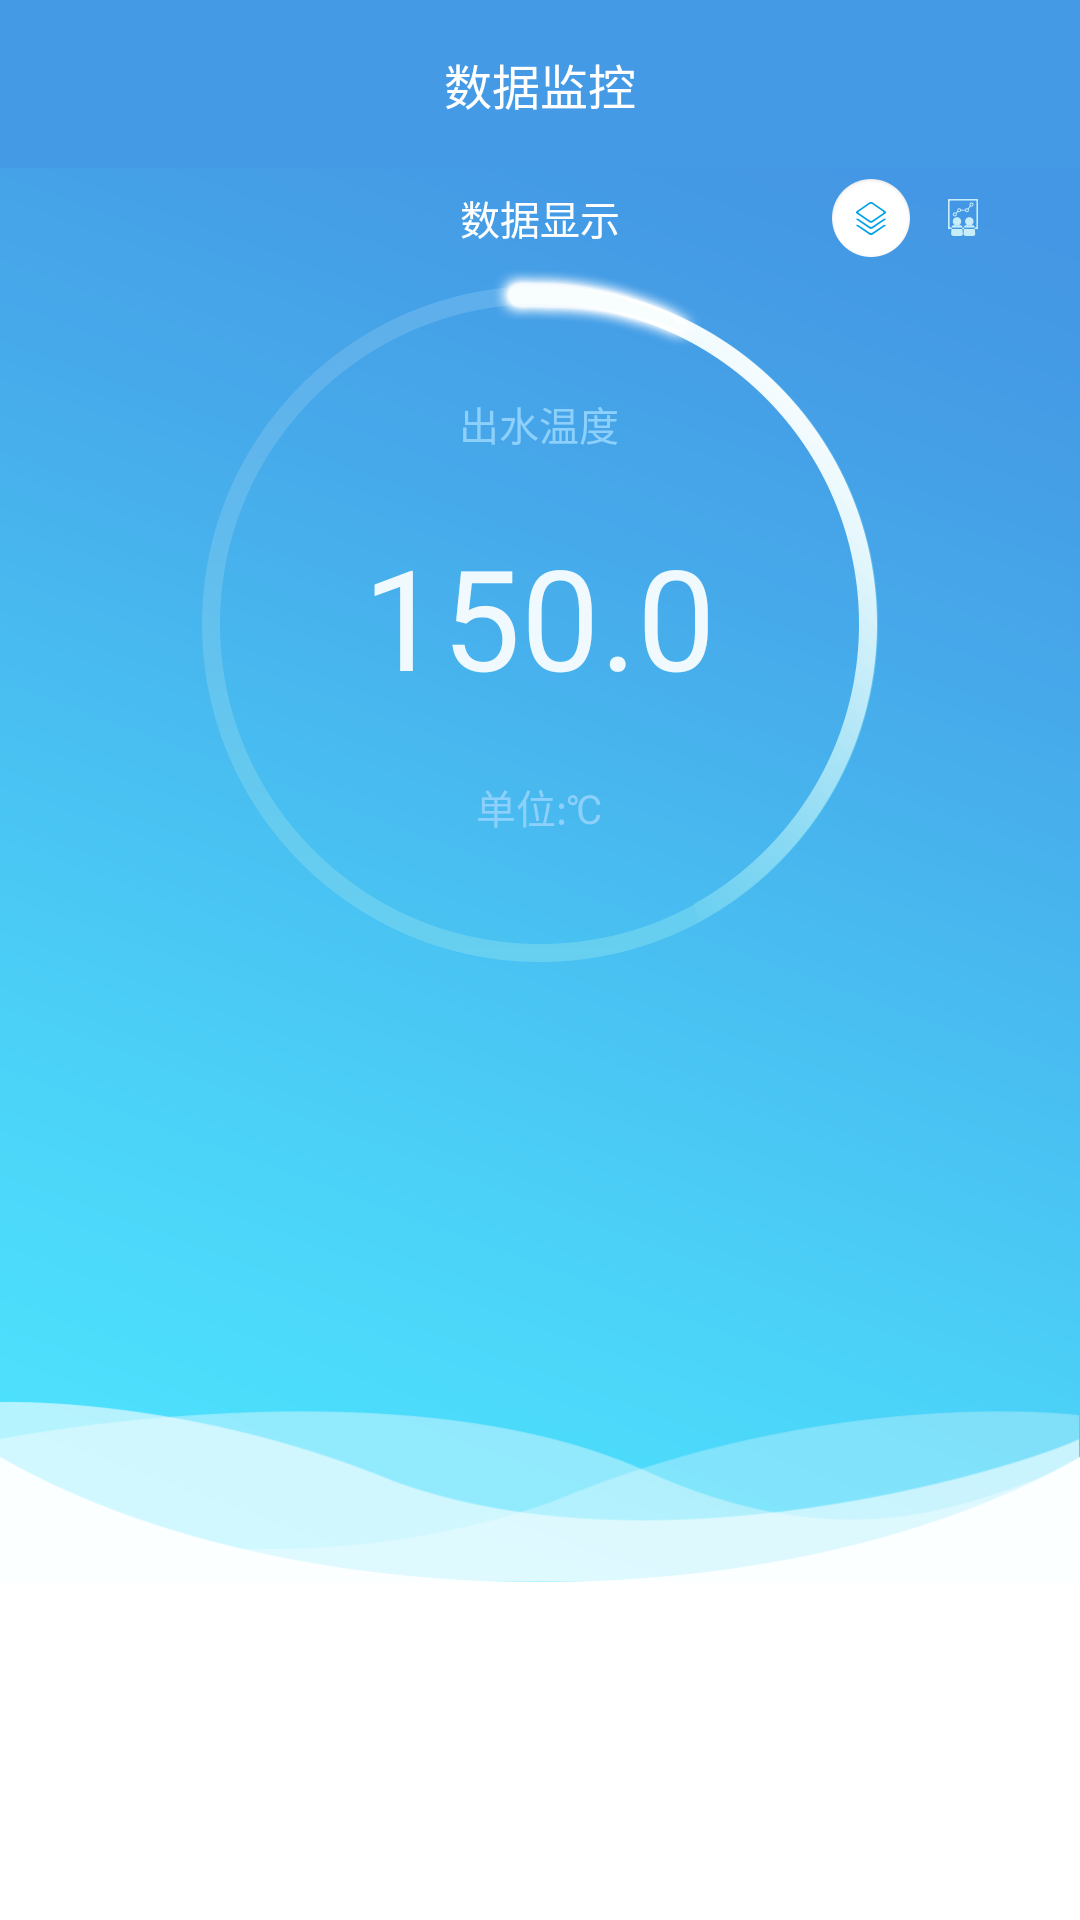

Named icons in this screenshot (1080 × 1920) and their centers, (x,y):
shujufenxi: (963,217)
shujuxianhsi highlight: (871,218)
